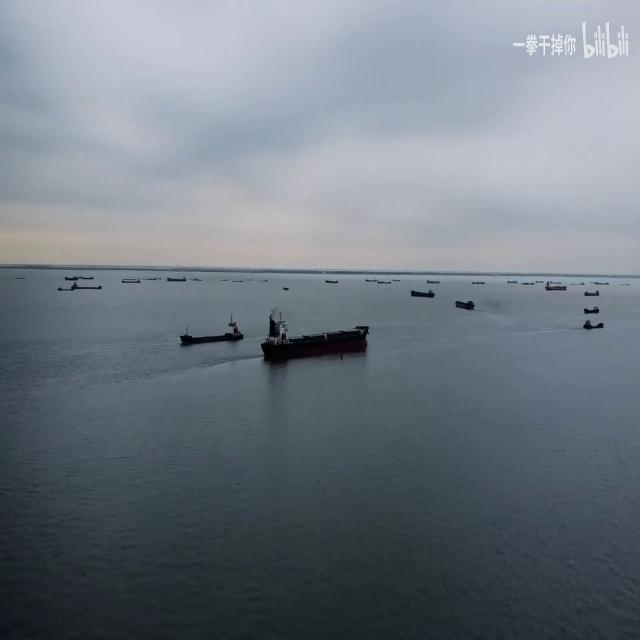cargoship: (254, 307, 378, 365), (176, 301, 249, 371), (404, 282, 435, 313)
